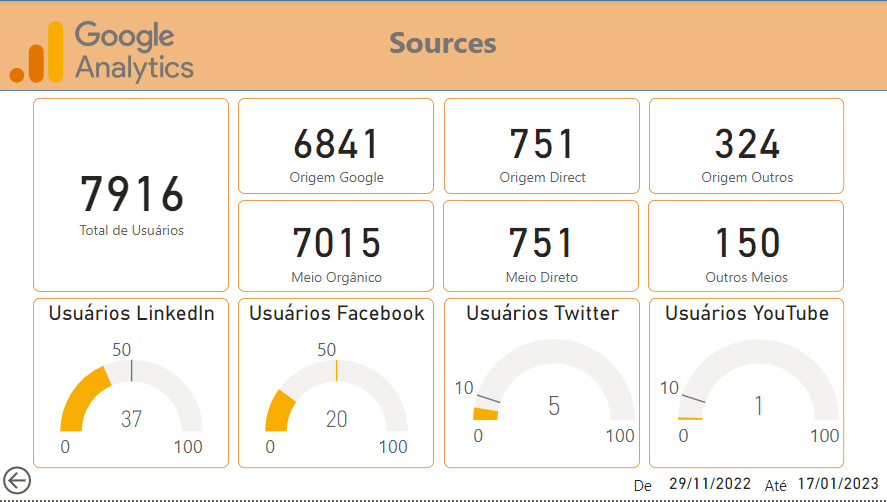

The page's visual inventory and layout, read from the dashboard file:
{"tool":"powerbi","page":{"name":"Sources","canvas":[1280,720],"ordinal":2},"visuals":[{"type":"card","fields":{"Values":["Sum(traffic_sources.ga_users)"]},"box":[49,141.1,282.2,279.4],"z":0},{"type":"card","fields":{"Values":["Sum(traffic_sources.ga_users)"]},"box":[344.6,141.1,282.2,138.2],"z":1000},{"type":"card","fields":{"Values":["Sum(traffic_sources.ga_users)"]},"box":[640.3,141.1,282.2,138.2],"z":2000},{"type":"card","fields":{"Values":["Sum(traffic_sources.ga_users)"]},"box":[936,141.1,280.8,138.2],"z":3000},{"type":"card","fields":{"Values":["Sum(traffic_sources.ga_users)"]},"box":[344.2,288,282.2,132.5],"z":4000},{"type":"card","fields":{"Values":["Sum(traffic_sources.ga_users)"]},"box":[639.4,288,282.2,132.5],"z":5000},{"type":"card","fields":{"Values":["Sum(traffic_sources.ga_users)"]},"box":[934.6,288,282.2,132.5],"z":6000},{"type":"gauge","title":"Usuários LinkedIn","fields":{"Y":["Sum(traffic_sources.ga_users)"]},"box":[49,429.1,282.2,244.8],"z":7000},{"type":"gauge","title":"Usuários Facebook","fields":{"Y":["Sum(traffic_sources.ga_users)"]},"box":[344.6,429.1,282.2,244.8],"z":8000},{"type":"gauge","title":"Usuários Twitter","fields":{"Y":["Sum(traffic_sources.ga_users)"]},"box":[640.3,429.1,282.2,244.8],"z":9000},{"type":"textbox","box":[908.8,679.7,55.4,40.3],"z":10000},{"type":"card","fields":{"Values":["Min(website_overview.ga_date)"]},"box":[952.4,669.6,144.5,50.4],"z":12000},{"type":"textbox","box":[1096.9,679.7,55.4,40.3],"z":13000},{"type":"card","fields":{"Values":["Max(website_overview.ga_date)"]},"box":[1135.5,669.6,144.5,50.4],"z":14000},{"type":"gauge","title":"Usuários YouTube","fields":{"Y":["Sum(traffic_sources.ga_users)"]},"box":[936,429.1,280.8,244.8],"z":14500},{"type":"actionButton","box":[0,663.8,51.8,56.2],"z":15000},{"type":"shape","box":[0,0,1280.2,131],"z":16000},{"type":"image","box":[10,10,275,131],"z":17000},{"type":"textbox","box":[521.3,25.9,234.7,77.8],"z":18000}]}

Visuals, with their boxes in screenshot pixels (x1, y1, x2, y2), scaled from the page's 1280x720 canvas onto the 887x502 screenshot:
card - Sum(traffic_sources.ga_users): crop(34, 98, 230, 293)
card - Sum(traffic_sources.ga_users): crop(239, 98, 434, 195)
card - Sum(traffic_sources.ga_users): crop(444, 98, 639, 195)
card - Sum(traffic_sources.ga_users): crop(649, 98, 843, 195)
card - Sum(traffic_sources.ga_users): crop(239, 201, 434, 293)
card - Sum(traffic_sources.ga_users): crop(443, 201, 639, 293)
card - Sum(traffic_sources.ga_users): crop(648, 201, 843, 293)
"Usuários LinkedIn" gauge: crop(34, 299, 230, 470)
"Usuários Facebook" gauge: crop(239, 299, 434, 470)
"Usuários Twitter" gauge: crop(444, 299, 639, 470)
textbox: crop(630, 474, 668, 501)
card - Min(website_overview.ga_date): crop(660, 467, 760, 501)
textbox: crop(760, 474, 799, 501)
card - Max(website_overview.ga_date): crop(787, 467, 886, 501)
"Usuários YouTube" gauge: crop(649, 299, 843, 470)
actionButton: crop(0, 463, 36, 501)
shape: crop(0, 0, 886, 91)
image: crop(7, 7, 197, 98)
textbox: crop(361, 18, 524, 72)
